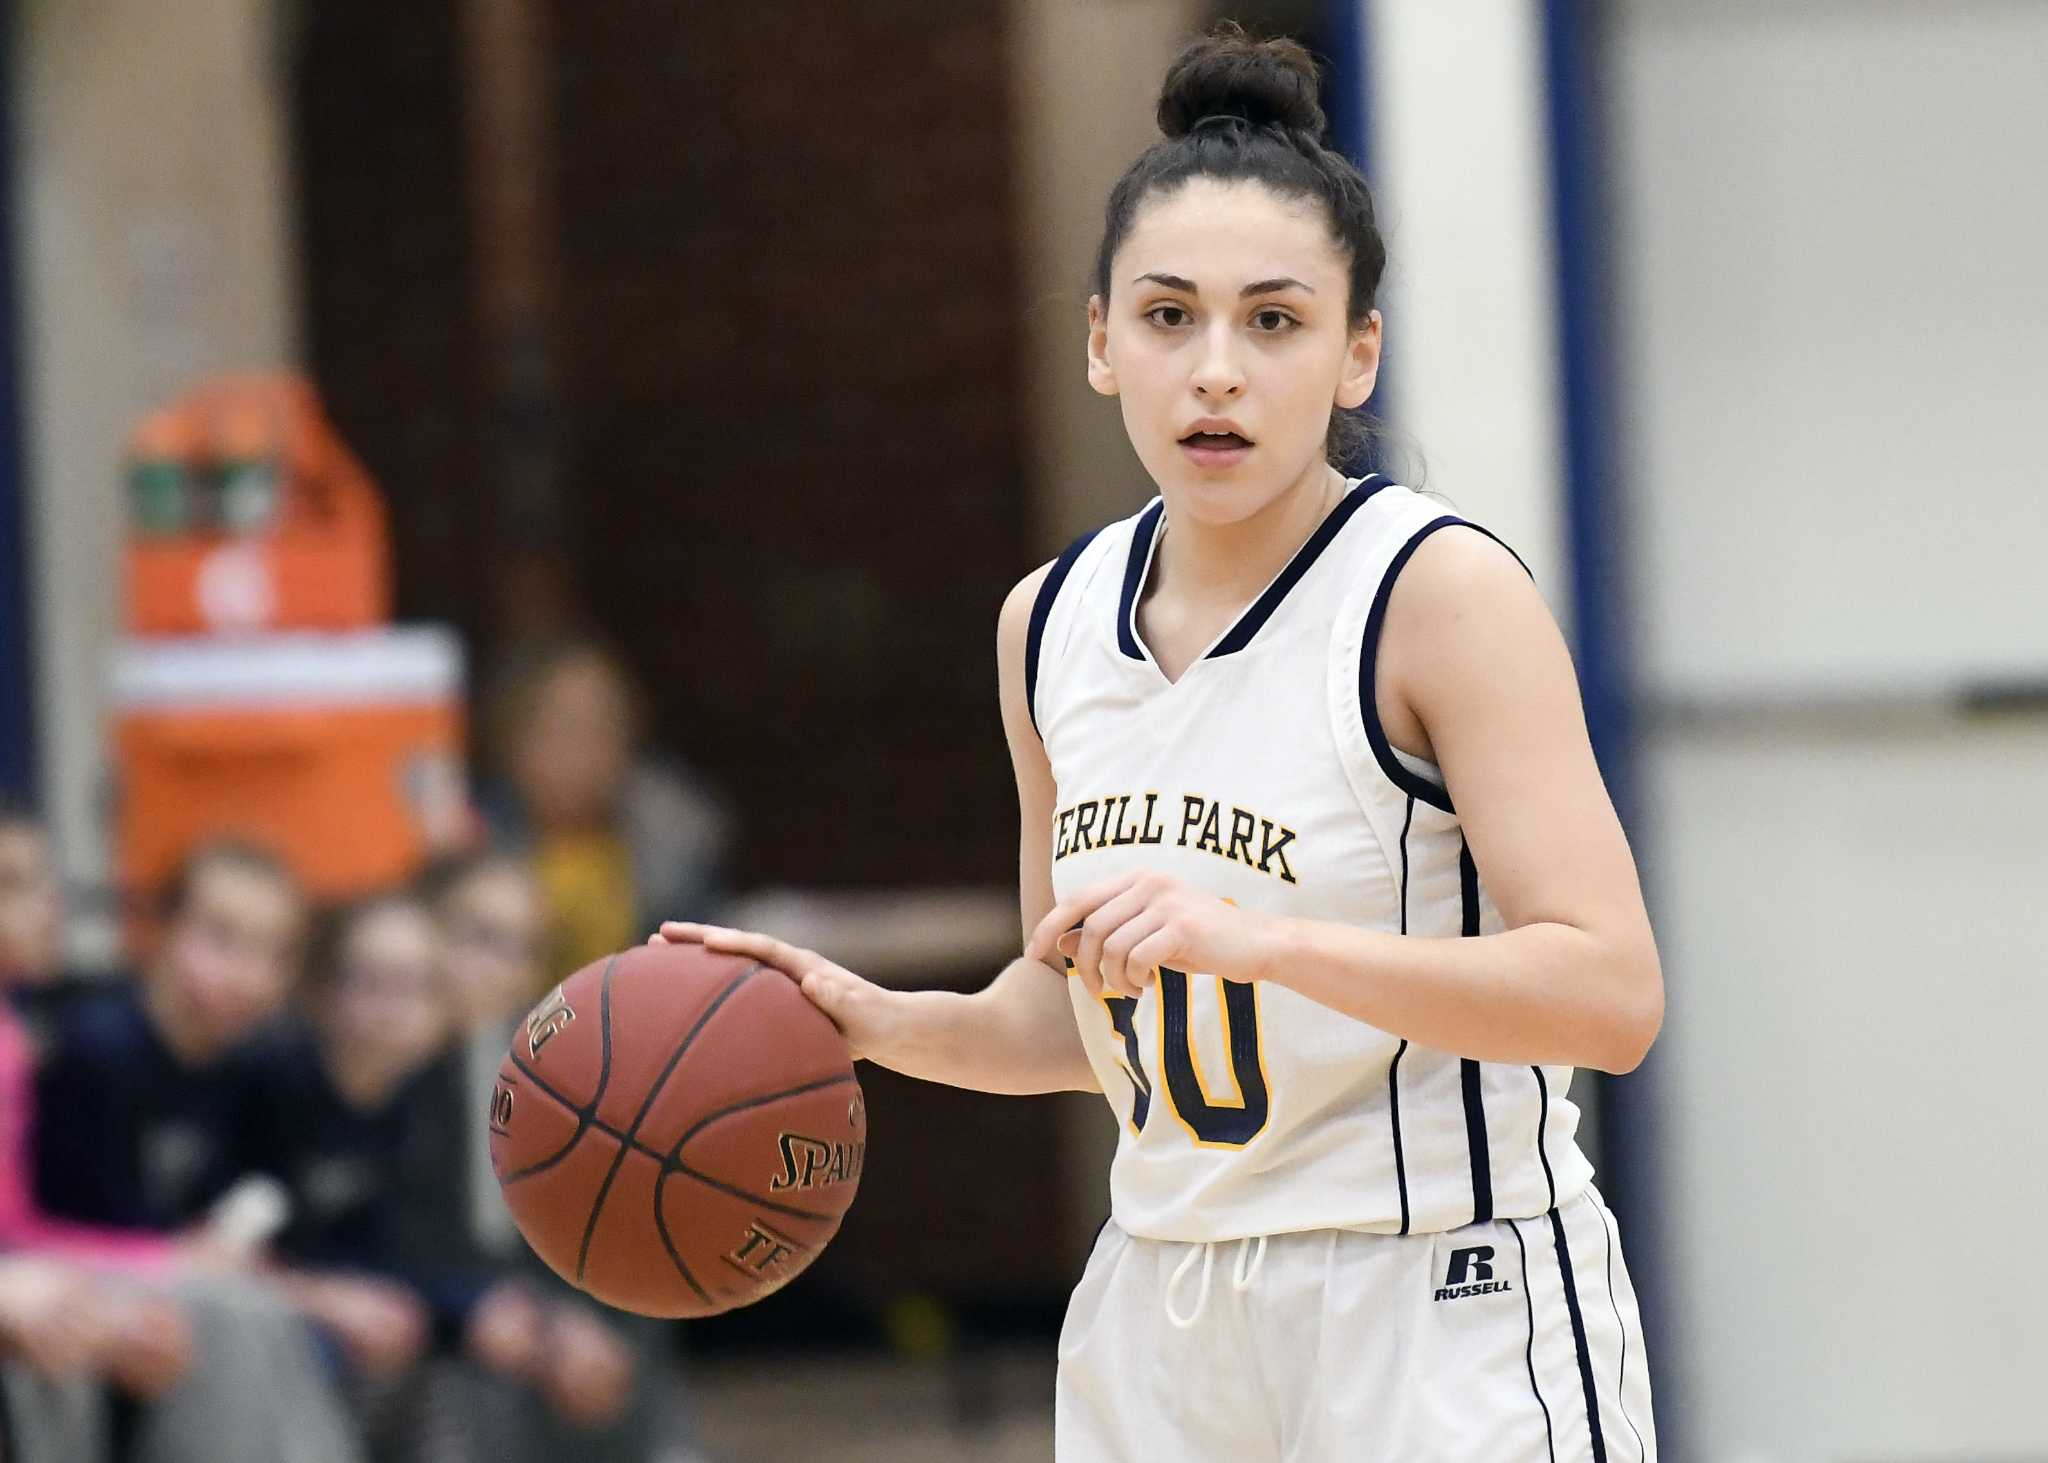b_ball: (481, 931, 897, 1332)
face: (1040, 61, 1436, 529)
player: (645, 15, 1678, 1463)
